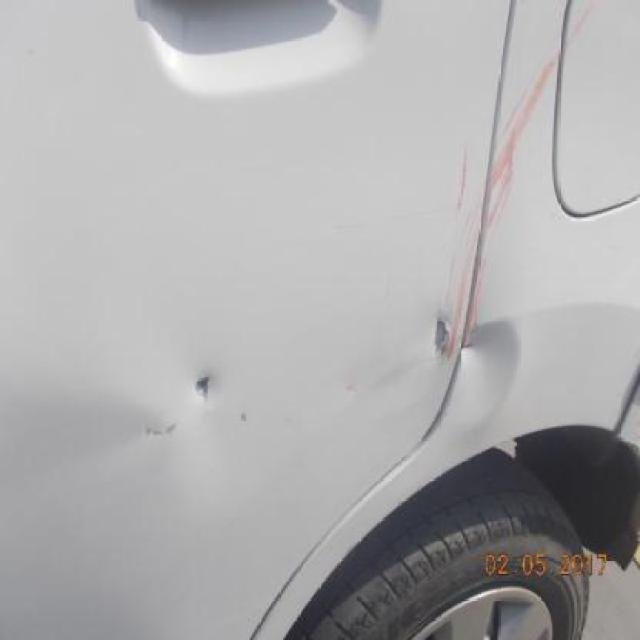doorouter-dent: (405, 295, 452, 377), (178, 357, 226, 418)
quaterpanel-dent: (451, 303, 552, 449)
